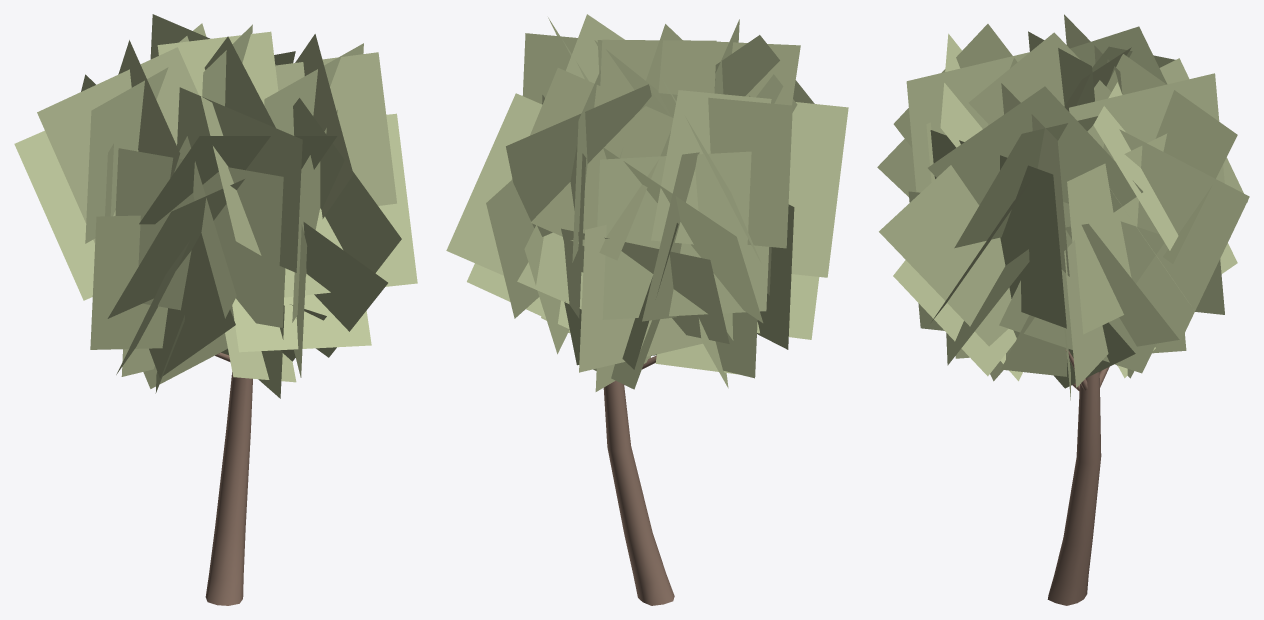
Rendered from rowan.glb.
3 views of the same model, side by side, from view 1: azimuth 30°, elevation 25°; view 2: azimuth 150°, elevation 25°; view 3: azimuth 270°, elevation 25° (orthographic).
Visible parts, largest first — view 1: Foliage, rowan; view 2: Foliage, rowan; view 3: Foliage, rowan.
Part boxes in pixels (x1,y1,x2,y2): Foliage: [14, 14, 417, 398]; rowan: [205, 352, 252, 605]; Foliage: [446, 14, 848, 391]; rowan: [603, 355, 674, 605]; Foliage: [877, 14, 1249, 400]; rowan: [1047, 349, 1109, 605].
Bounding box in the file's own units: 4.01 × 7.48 × 4.48.
